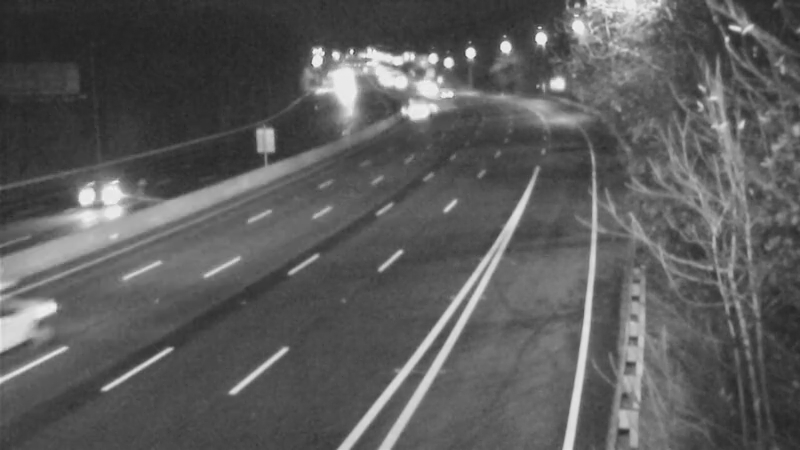vehicle: (1, 266, 93, 376), (68, 155, 148, 235), (420, 68, 470, 118), (396, 81, 446, 131)
